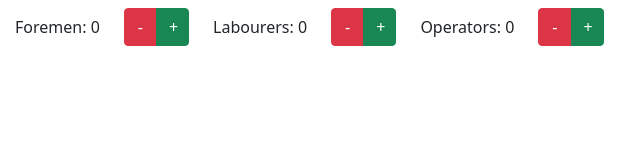
it: CrewList › decrements a role's count
This screenshot has width=621, height=160.
Click the button "+" in the row of "Labourers:" at {"x": 380, "y": 27}, box [363, 8, 396, 46]
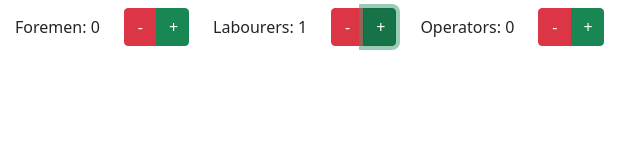
Click the button "+" in the row of "Labourers:" at {"x": 380, "y": 27}, box [363, 8, 396, 46]
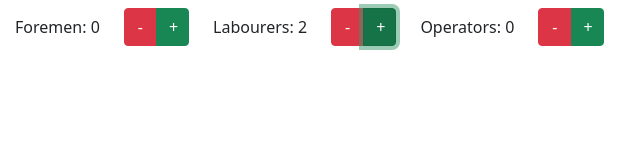
Click the button "-" in the row of "Labourers:" at {"x": 348, "y": 27}, box [331, 8, 364, 46]
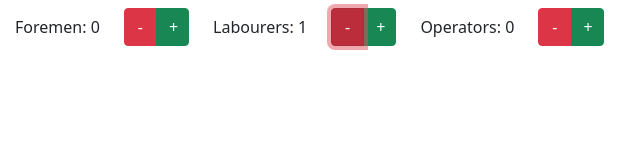
Result: the text "Labourers: 1" is shown at [213, 16, 307, 38]
